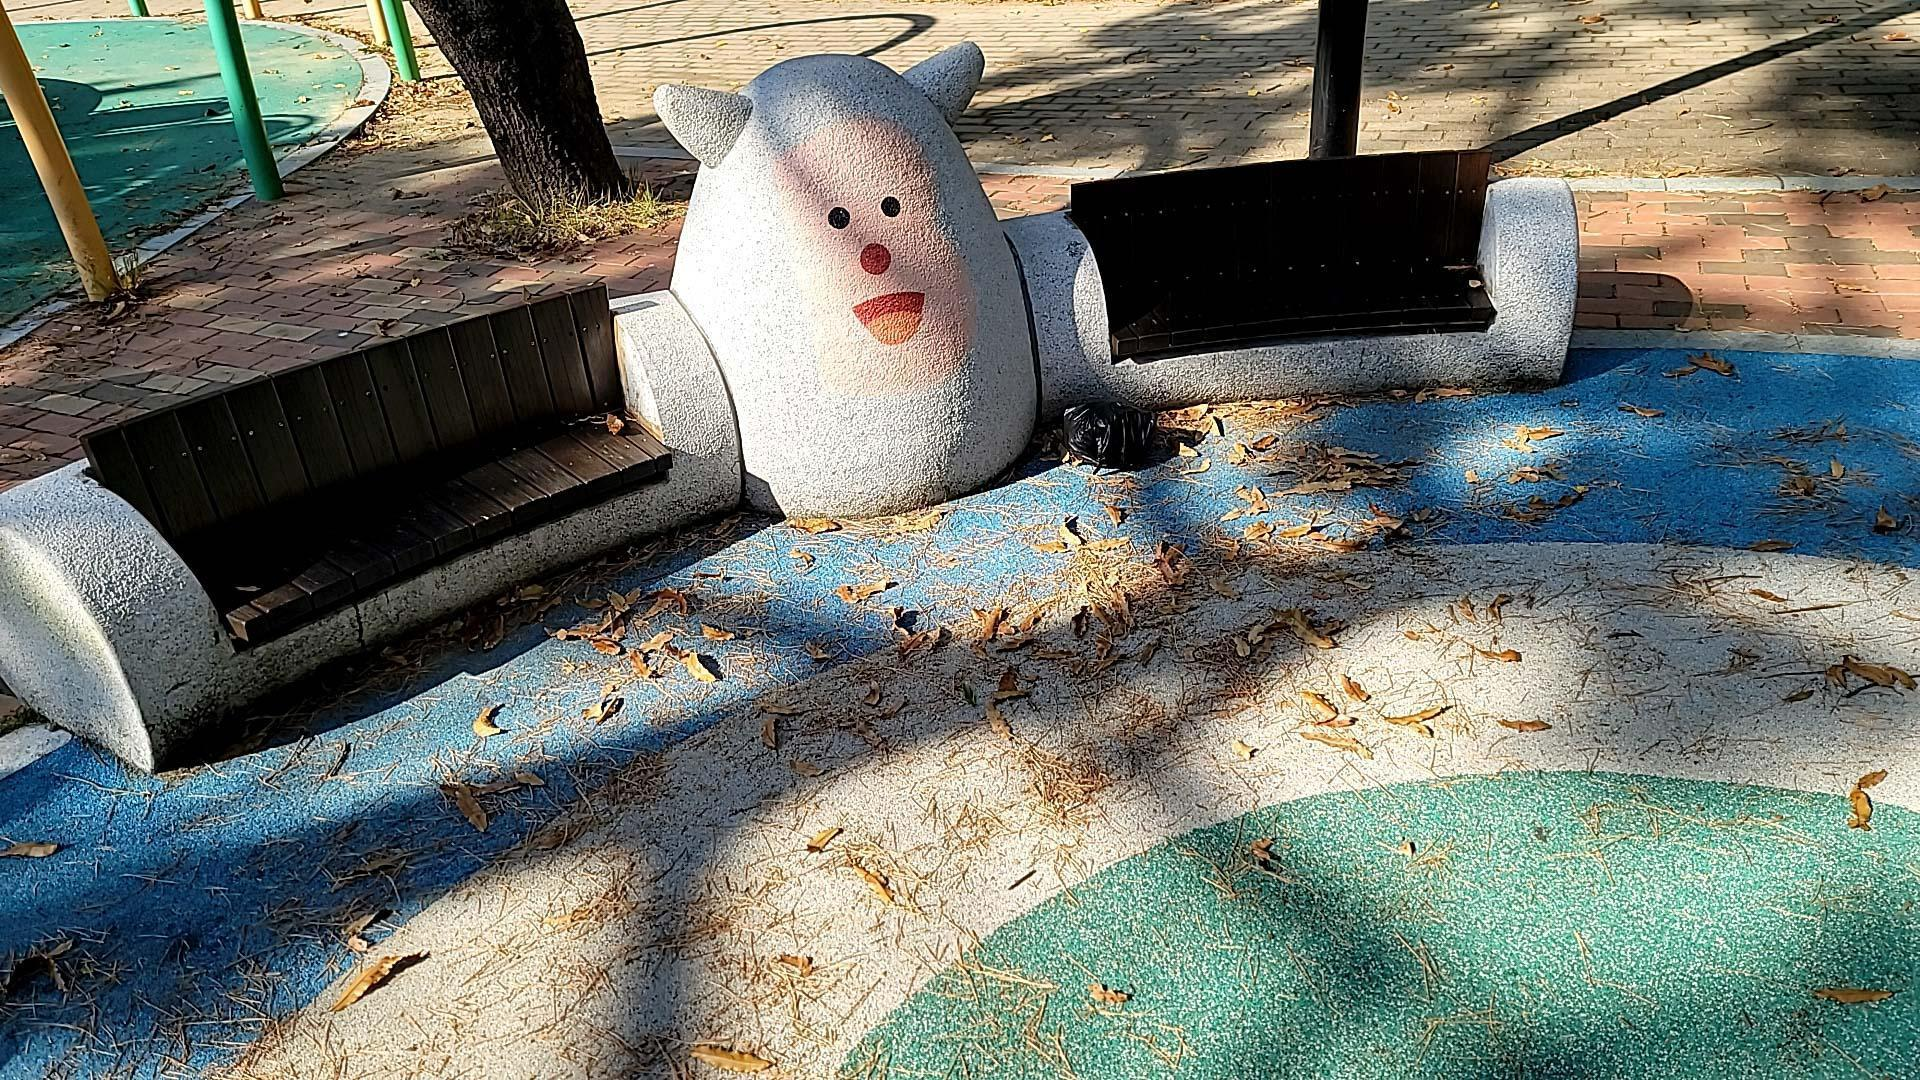black_bag: (1055, 393, 1164, 468)
